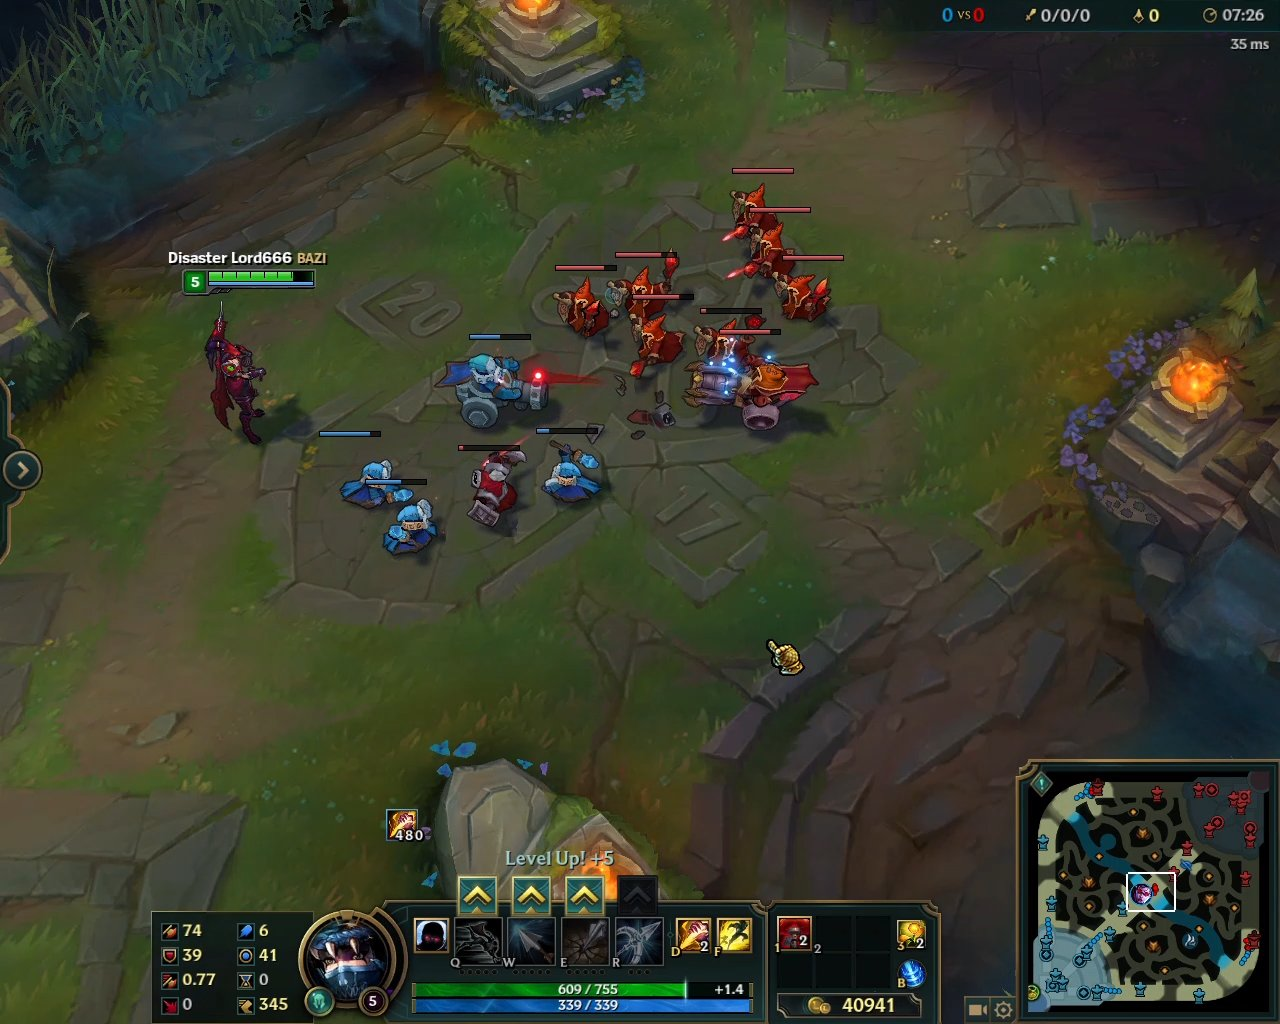EnemyMinion: (675, 327, 828, 438), (456, 440, 529, 535), (618, 294, 695, 383), (734, 206, 811, 289), (545, 260, 620, 346), (608, 247, 686, 321), (772, 251, 844, 328), (726, 167, 794, 249)
Vayne: (193, 297, 278, 452)
